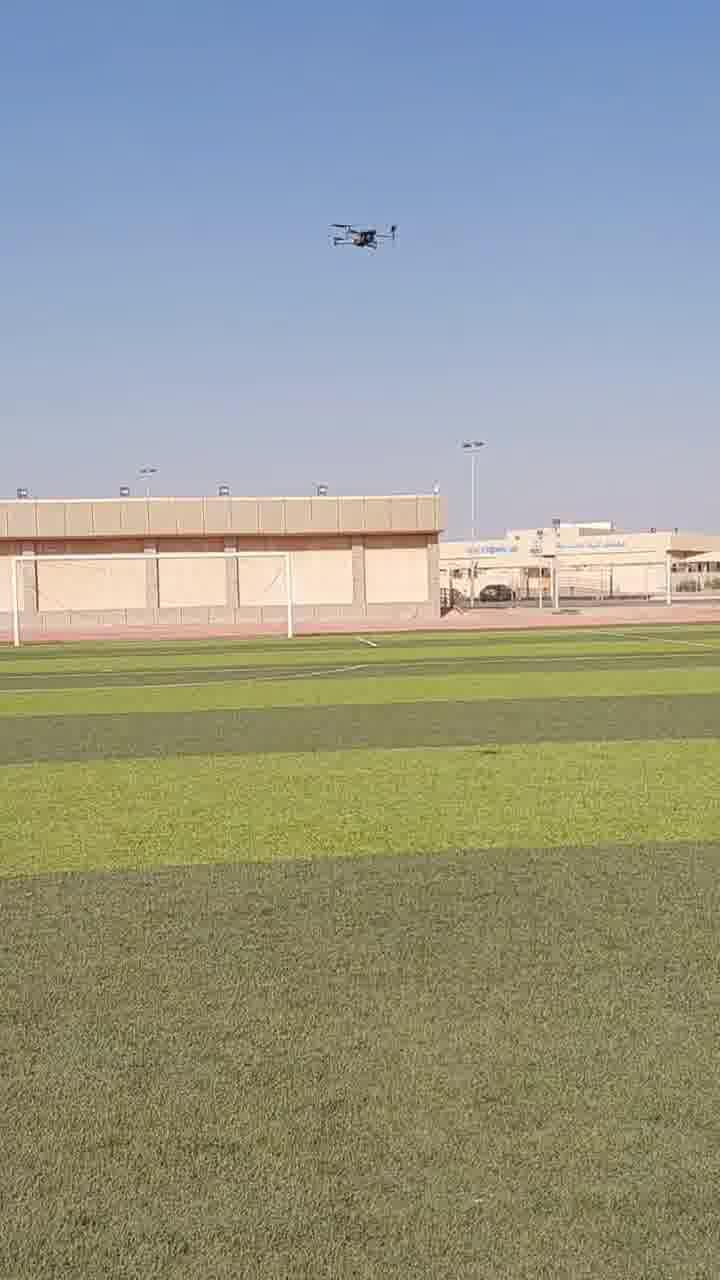drone: (320, 212, 407, 257)
